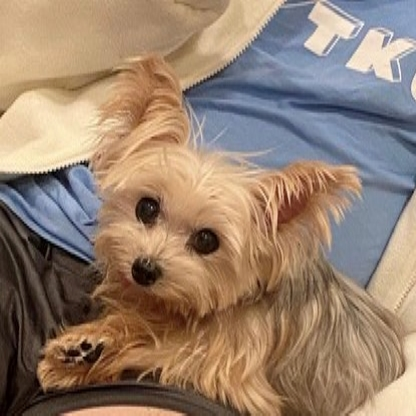yorkshire: (38, 50, 402, 409)
